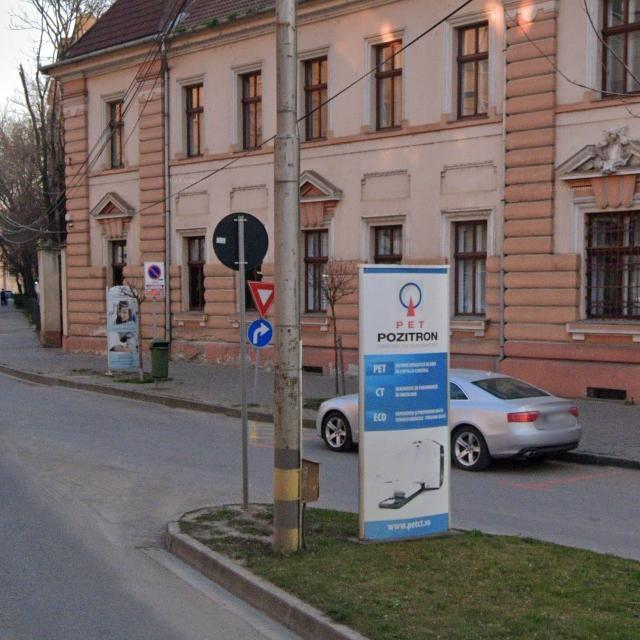prio_give_way: (248, 280, 276, 318)
